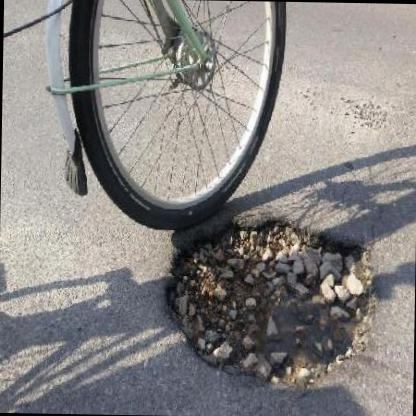pothole: (160, 211, 377, 387)
